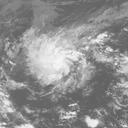cyclone: (24, 31, 85, 86)
